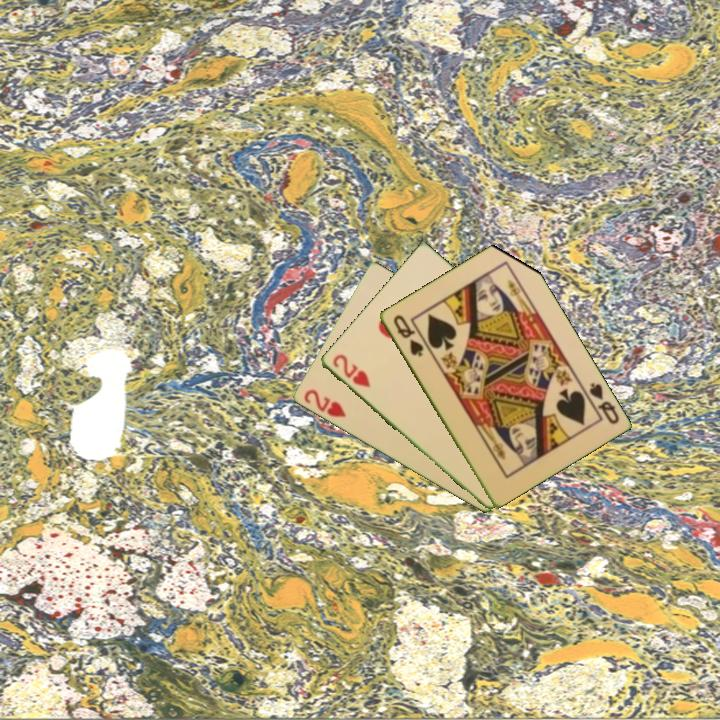2h: (329, 351, 373, 391), (300, 386, 349, 420)
Qs: (579, 379, 622, 427), (389, 311, 426, 359)
